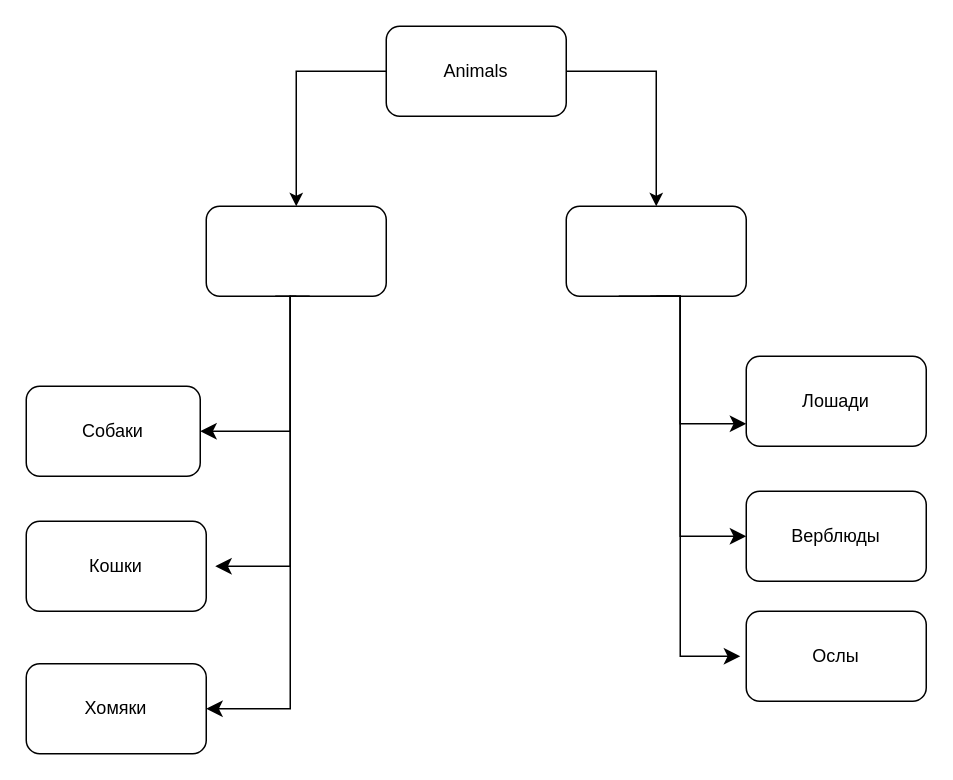
This 953x780 diagram has some shape labels left out. The shapes that lost their labels are listed below. From the top down, each one's centre as x and y in pixels, then its label:
(295,250): Pets
(655,250): Pack animals
